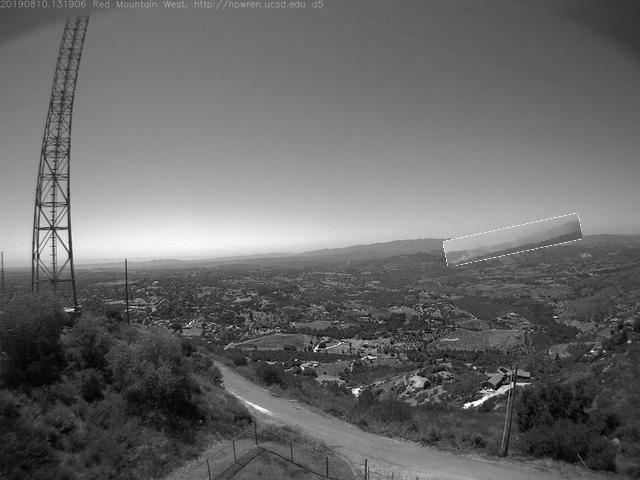smoke: (445, 221, 584, 261)
